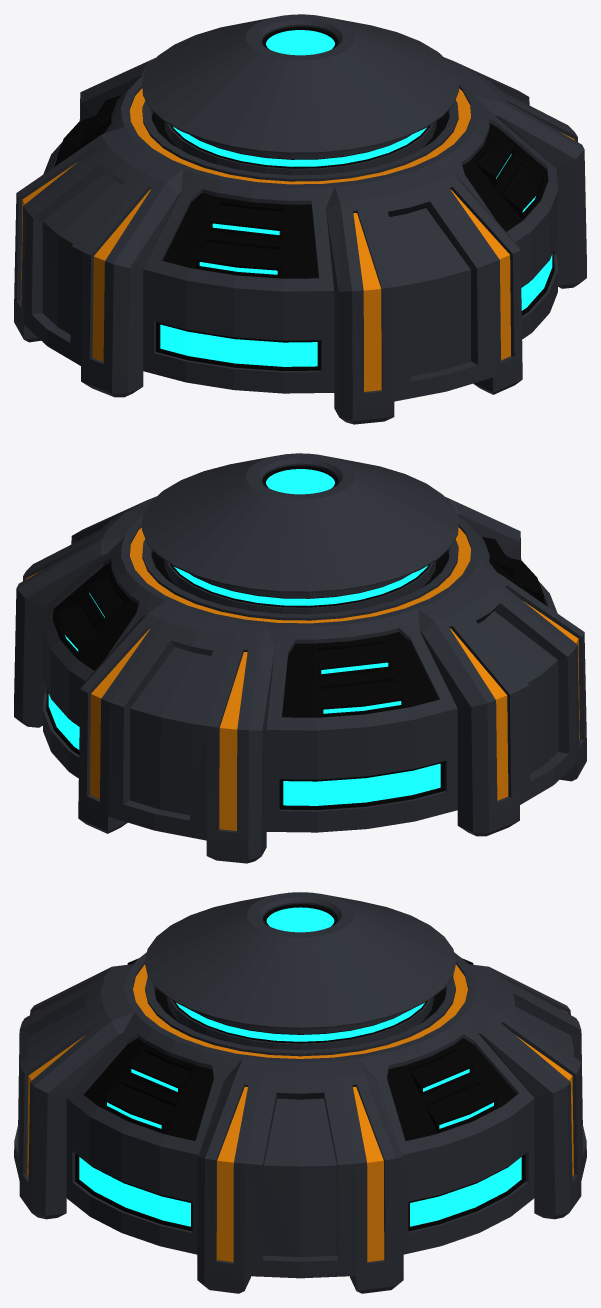
File: SM_Motion_Sensor.fbx
3 views of the same model, one above another, from view 1: azimuth 30°, elevation 25°; view 2: azimuth 150°, elevation 25°; view 3: azimuth 270°, elevation 25° (orthographic).
Parts seen in each view (by area): view 1: SM_Motion_Sensor; view 2: SM_Motion_Sensor; view 3: SM_Motion_Sensor.
Boxes of the visible parts, box(x1,y1,x2,y2) form: SM_Motion_Sensor: box(14, 14, 586, 424); SM_Motion_Sensor: box(14, 453, 586, 863); SM_Motion_Sensor: box(14, 892, 586, 1293).
Size of the model in its own units: 40.59 by 20.65 by 40.59.
